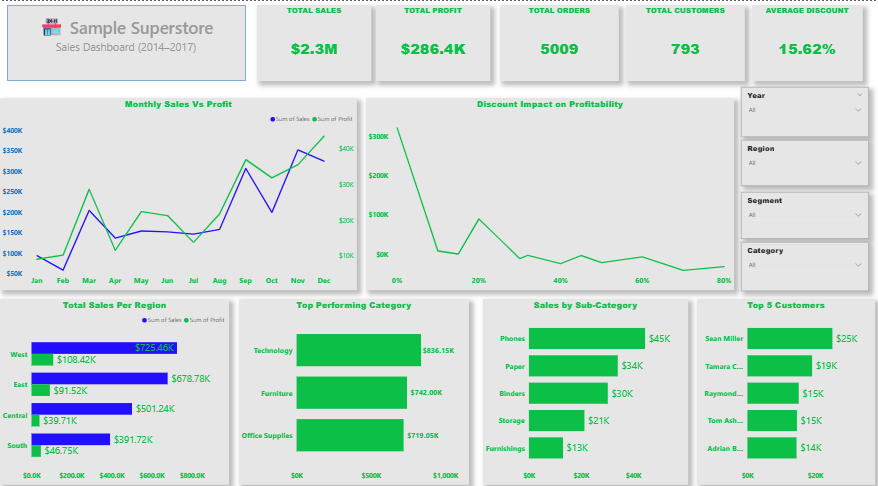

This screenshot's page, from the dashboard's own definition file:
{"tool":"powerbi","page":{"name":"Page 1","canvas":[1953,1081],"ordinal":0},"visuals":[{"type":"shape","box":[15.6,8.9,531.1,168.9],"z":0},{"type":"card","title":"TOTAL SALES","fields":{"Values":["Sample - Superstore.Total Sales"]},"box":[571.3,8.9,254.3,168.9],"z":0,"group":"g1"},{"type":"card","title":"TOTAL PROFIT","fields":{"Values":["Sample - Superstore.Total Profit"]},"box":[835.8,8.9,254.3,168.9],"z":1000,"group":"g1"},{"type":"lineChart","title":"Monthly Sales Vs Profit","fields":{"Y":["Sum(Sample - Superstore.Sales)"],"Y2":["Sum(Sample - Superstore.Profit)"],"Category":["Sample - Superstore.Month Name"]},"box":[0,215.6,793.3,426.7],"z":1000},{"type":"card","title":"TOTAL ORDERS","fields":{"Values":["Sample - Superstore.Total Orders"]},"box":[1110.5,8.9,264.5,168.9],"z":2000,"group":"g1"},{"type":"clusteredBarChart","title":"Total Sales Per Region","fields":{"Category":["Sample - Superstore.Region"],"Y":["Sum(Sample - Superstore.Sales)","Sum(Sample - Superstore.Profit)"]},"box":[0,662.2,508.9,413.3],"z":2000},{"type":"card","title":"TOTAL CUSTOMERS","fields":{"Values":["Sample - Superstore.Total Customers"]},"box":[1391.2,8.9,264.5,168.9],"z":3000,"group":"g1"},{"type":"clusteredBarChart","title":"Top Performing Category","fields":{"Category":["Sample - Superstore.Category"],"Y":["Sum(Sample - Superstore.Sales)"]},"box":[531.1,662.2,511.1,413.3],"z":3000},{"type":"card","title":"AVERAGE DISCOUNT","fields":{"Values":["Sample - Superstore.Average Discount"]},"box":[1672,8.9,246.2,168.9],"z":4000,"group":"g1"},{"type":"clusteredBarChart","title":"Sales by Sub-Category","fields":{"Category":["Sample - Superstore.Sub-Category"],"Y":["Sum(Sample - Superstore.Profit)"]},"box":[1073.3,662.2,455.6,413.3],"z":4000},{"type":"group","id":"g1","title":"Group 1","box":[571.3,8.9,1346.7,168.9],"z":5000},{"type":"lineChart","title":" Discount Impact on Profitability","fields":{"Category":["Sample - Superstore.Discount"],"Y":["Sample - Superstore.Total Profit"]},"box":[813.3,215.6,817.8,426.7],"z":6000},{"type":"clusteredBarChart","title":"Top 5 Customers","fields":{"Category":["Sample - Superstore.Customer Name"],"Y":["Sum(Sample - Superstore.Sales)"]},"box":[1548.9,662.2,395.6,413.3],"z":7000},{"type":"slicer","fields":{"Values":["Sample - Superstore.Year"]},"box":[1646.7,191.1,284.4,111.1],"z":8000},{"type":"slicer","fields":{"Values":["Sample - Superstore.Region"]},"box":[1646.7,308.9,284.4,102.2],"z":9000},{"type":"slicer","fields":{"Values":["Sample - Superstore.Segment"]},"box":[1646.7,424,284.4,104.4],"z":10000},{"type":"slicer","fields":{"Values":["Sample - Superstore.Category"]},"box":[1646.7,535.6,284.4,108.9],"z":11000},{"type":"textbox","box":[15.6,22.2,528.9,168.9],"z":12000}]}

Visuals, with their boxes in screenshot pixels (x1, y1, x2, y2), scaled from the page's 1953x1081 canvas onto the 878x486 screenshot:
shape: {"left": 7, "top": 4, "right": 246, "bottom": 80}
"TOTAL SALES" card: {"left": 257, "top": 4, "right": 371, "bottom": 80}
"TOTAL PROFIT" card: {"left": 376, "top": 4, "right": 490, "bottom": 80}
"Monthly Sales Vs Profit" lineChart: {"left": 0, "top": 97, "right": 357, "bottom": 289}
"TOTAL ORDERS" card: {"left": 499, "top": 4, "right": 618, "bottom": 80}
"Total Sales Per Region" clusteredBarChart: {"left": 0, "top": 298, "right": 229, "bottom": 484}
"TOTAL CUSTOMERS" card: {"left": 625, "top": 4, "right": 744, "bottom": 80}
"Top Performing Category" clusteredBarChart: {"left": 239, "top": 298, "right": 469, "bottom": 484}
"AVERAGE DISCOUNT" card: {"left": 752, "top": 4, "right": 862, "bottom": 80}
"Sales by Sub-Category" clusteredBarChart: {"left": 483, "top": 298, "right": 687, "bottom": 484}
"Group 1" group: {"left": 257, "top": 4, "right": 862, "bottom": 80}
" Discount Impact on Profitability" lineChart: {"left": 366, "top": 97, "right": 733, "bottom": 289}
"Top 5 Customers" clusteredBarChart: {"left": 696, "top": 298, "right": 874, "bottom": 484}
slicer - Sample - Superstore.Year: {"left": 740, "top": 86, "right": 868, "bottom": 136}
slicer - Sample - Superstore.Region: {"left": 740, "top": 139, "right": 868, "bottom": 185}
slicer - Sample - Superstore.Segment: {"left": 740, "top": 191, "right": 868, "bottom": 238}
slicer - Sample - Superstore.Category: {"left": 740, "top": 241, "right": 868, "bottom": 290}
textbox: {"left": 7, "top": 10, "right": 245, "bottom": 86}
